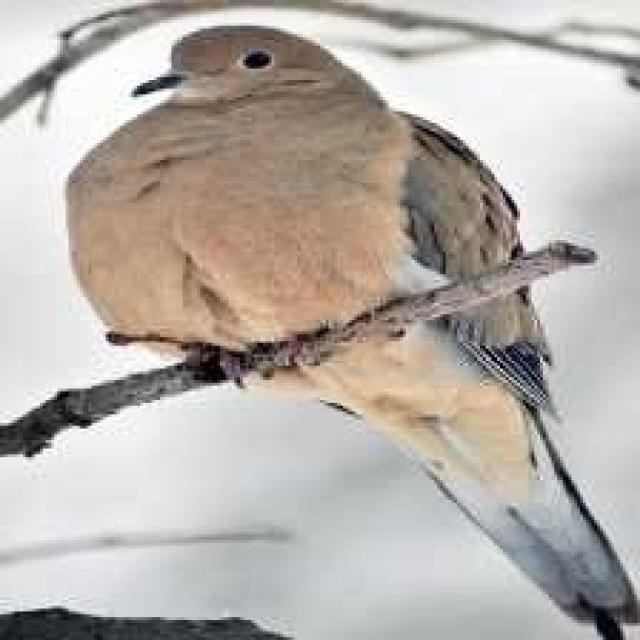bird: (67, 23, 638, 632)
